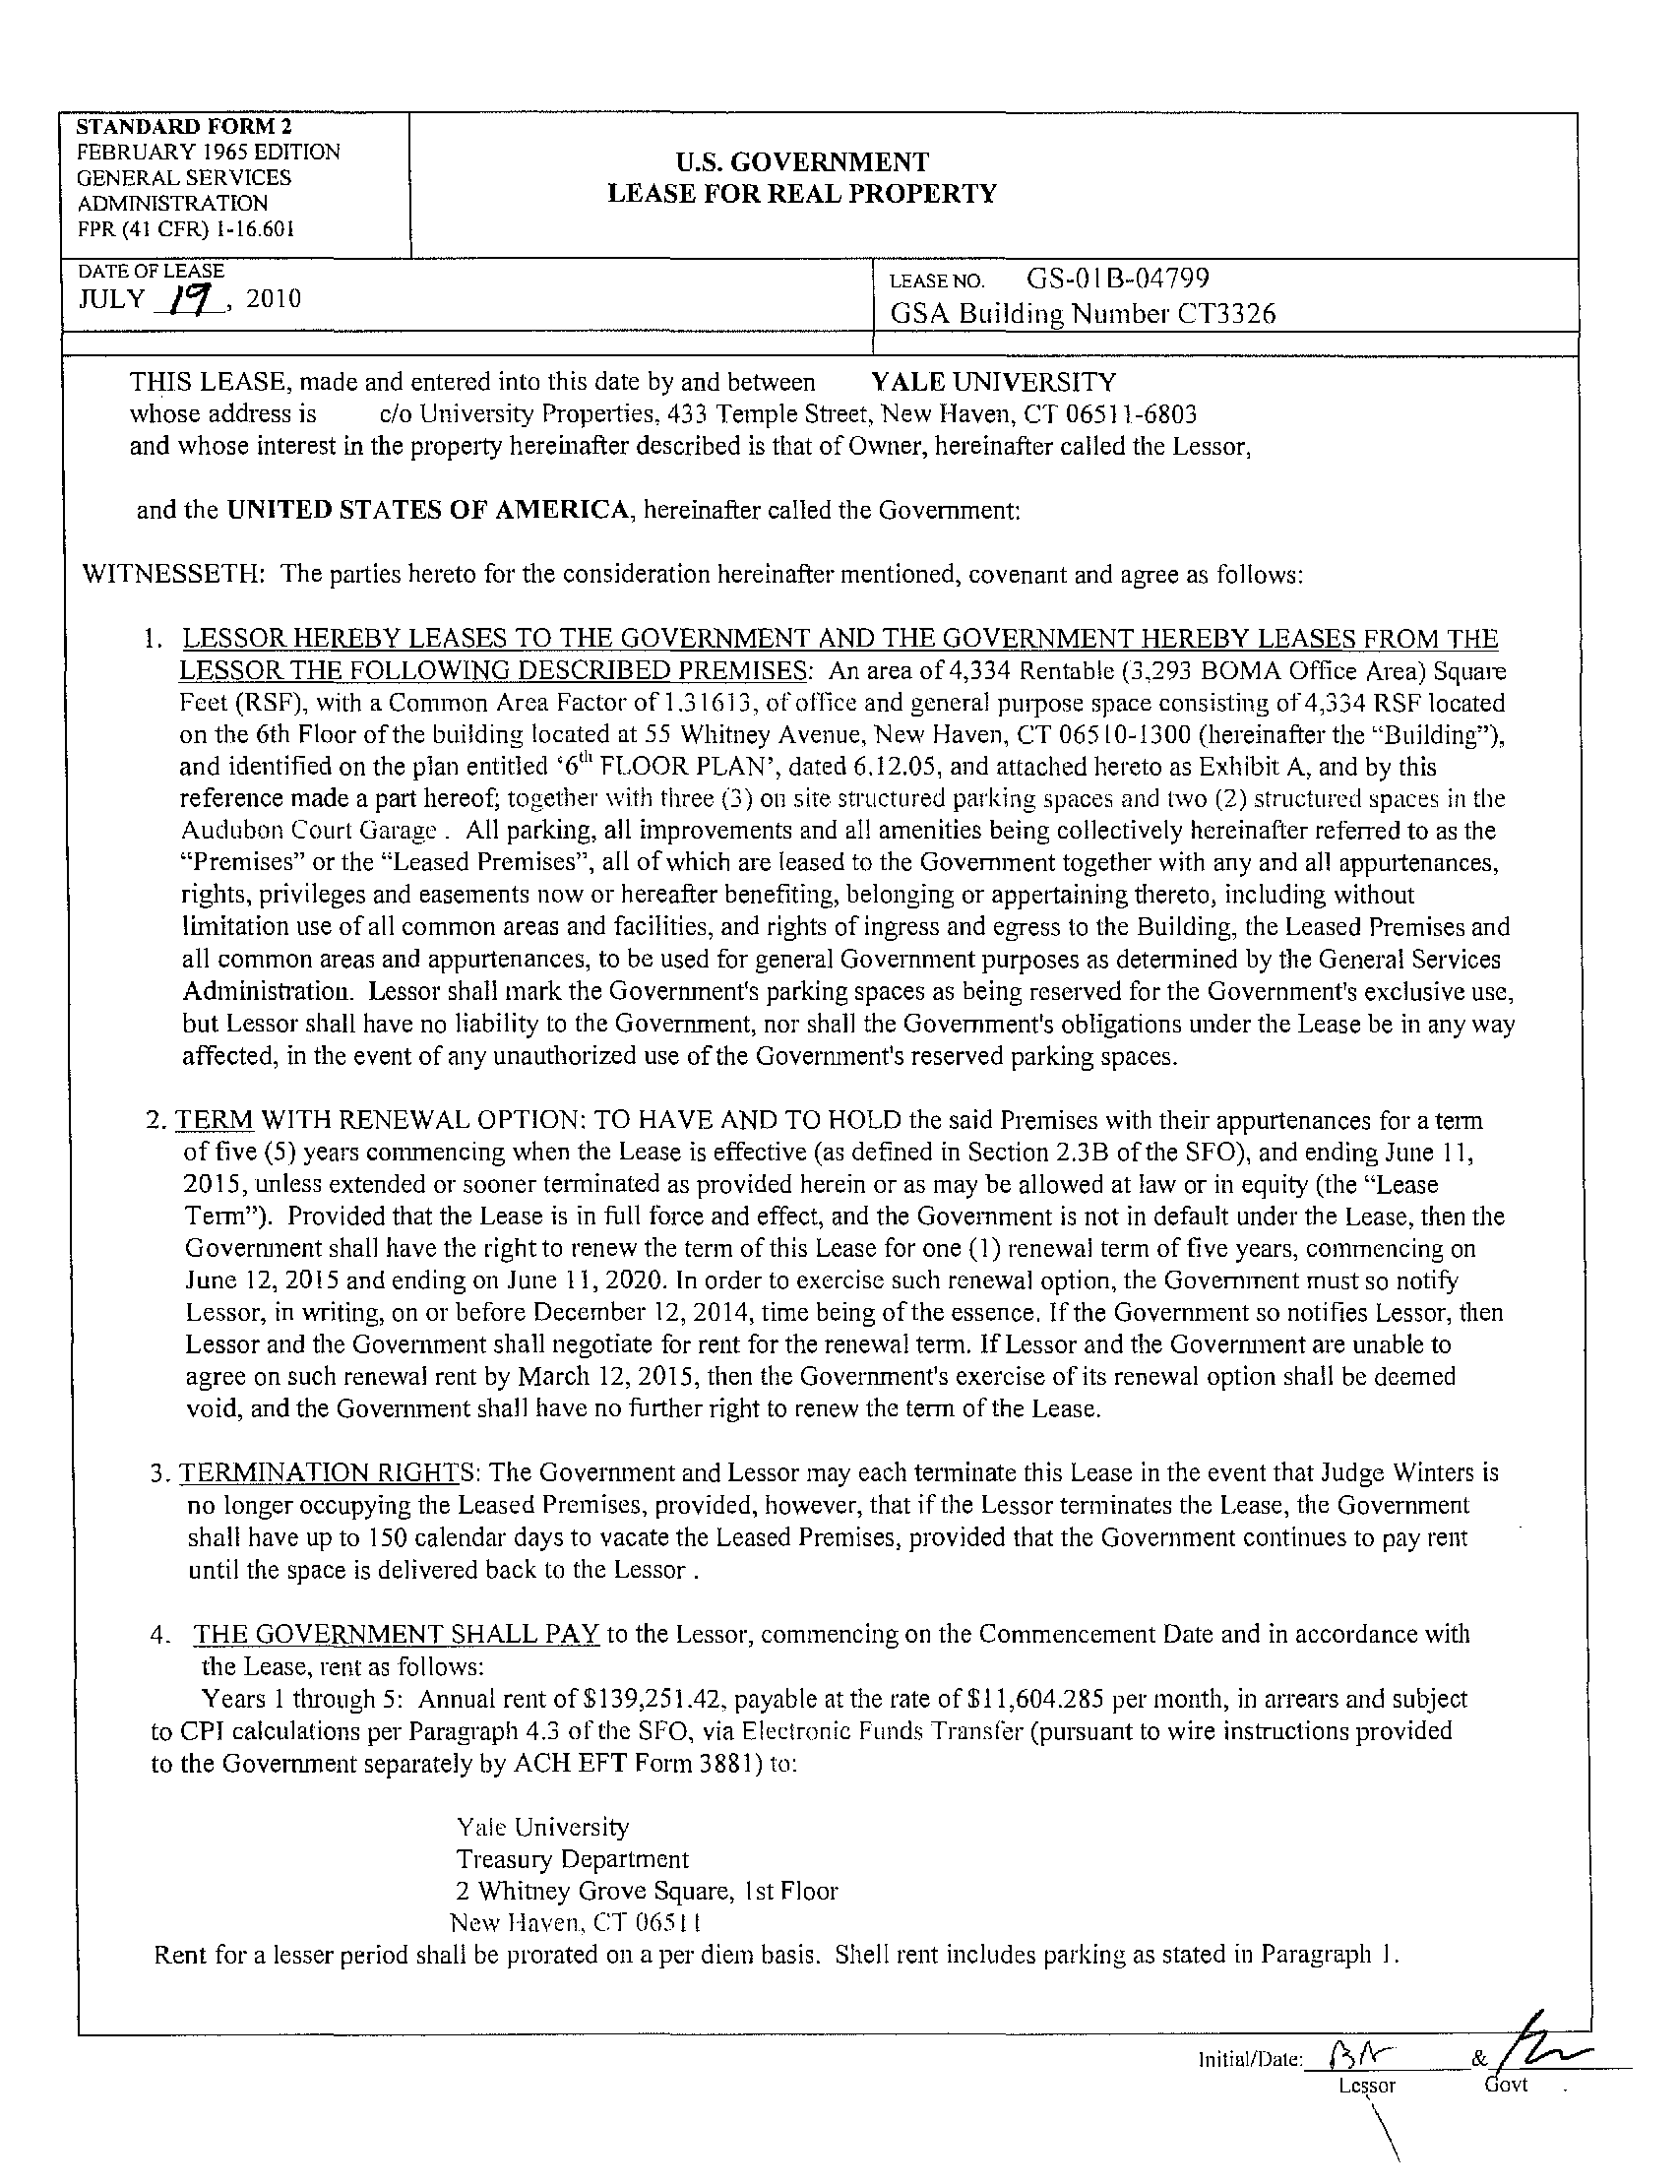handwritten: (1488, 1986, 1606, 2078), (1308, 2011, 1412, 2073)
